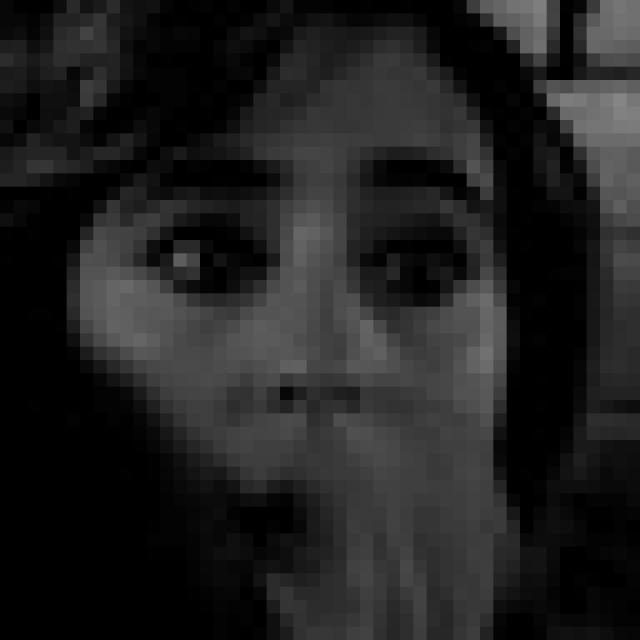fear: (121, 145, 502, 640)
